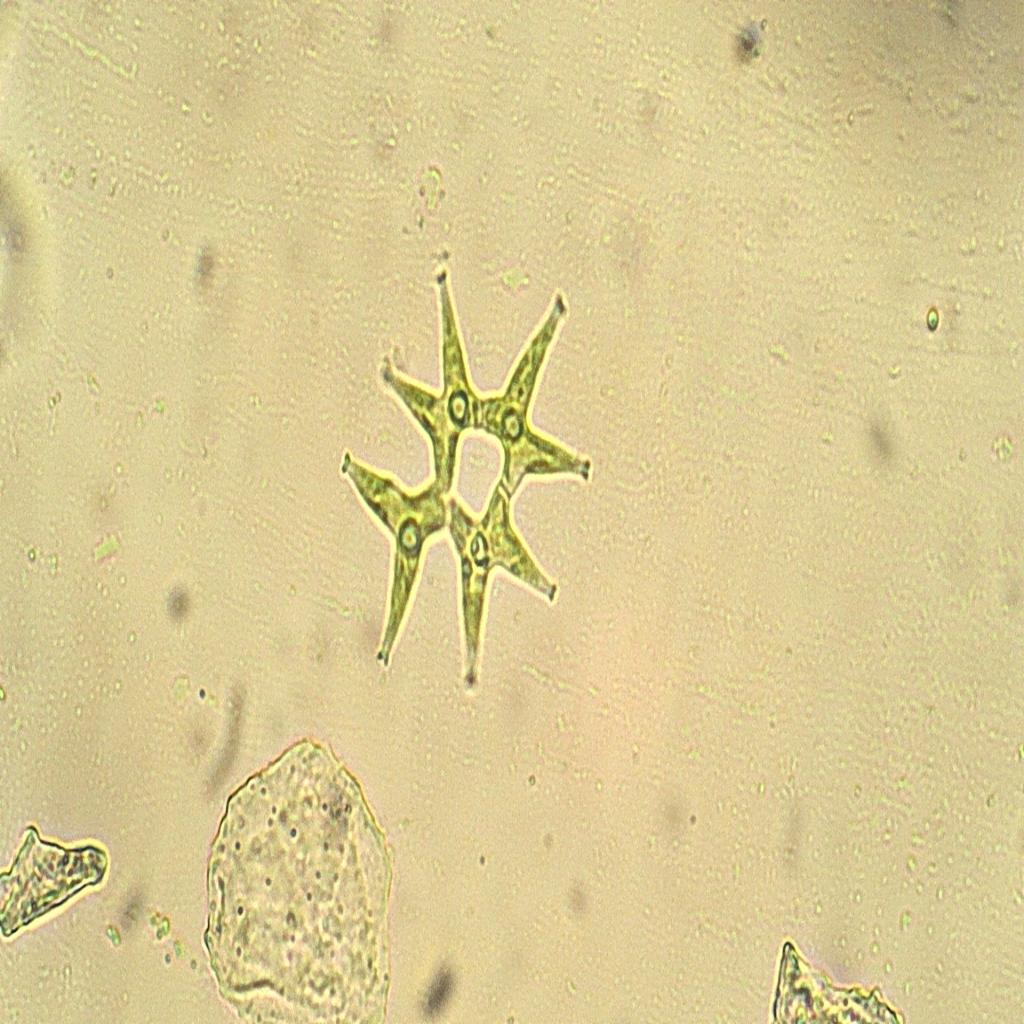Pediastrum_75FI: (319, 251, 619, 714)
